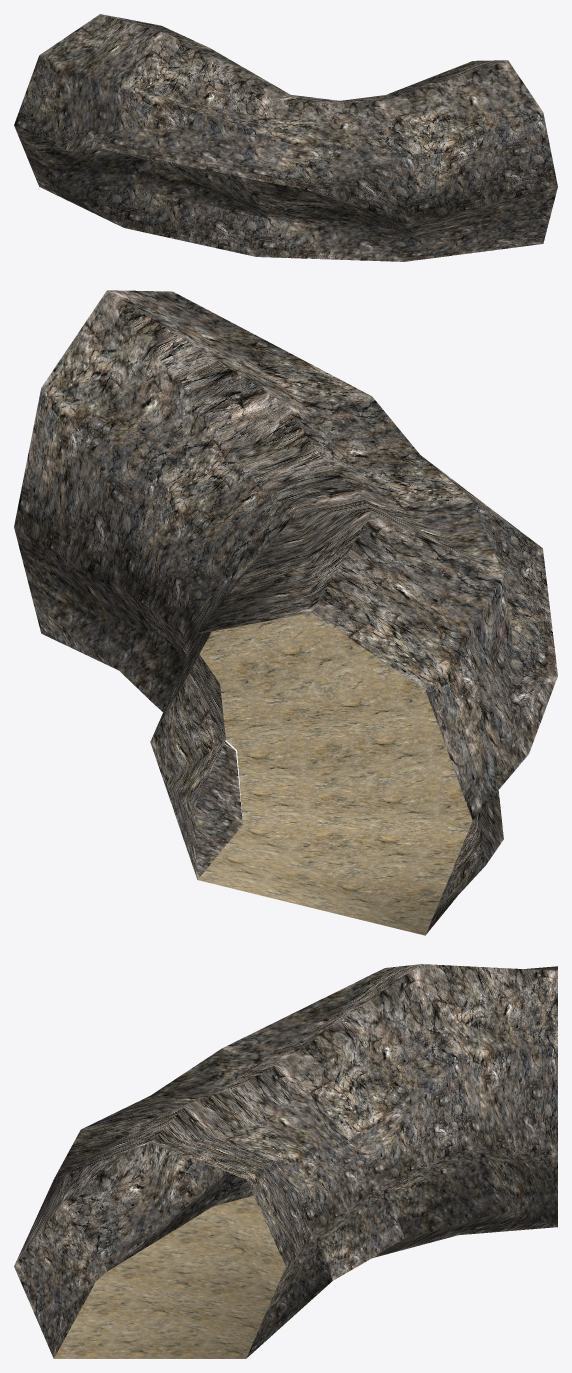
File: pir_m_are_cav_curveWideLeft.fbx
3 renders of one model, top to bottom at view 1: azimuth 30°, elevation 25°; view 2: azimuth 150°, elevation 25°; view 3: azimuth 270°, elevation 25°, orthographic. The views are drawn at different scales.
Parts seen in each view (by area): view 1: standardCurveWide_left_wall; view 2: standardCurveWide_left_wall, standardCurveWide_left_floor; view 3: standardCurveWide_left_wall, standardCurveWide_left_floor.
Part boxes in pixels (x1,y1,x2,y2): standardCurveWide_left_wall: (14, 14, 557, 261); standardCurveWide_left_wall: (14, 290, 557, 934); standardCurveWide_left_floor: (198, 612, 472, 935); standardCurveWide_left_wall: (14, 964, 557, 1358); standardCurveWide_left_floor: (54, 1195, 285, 1358).
Bounding box in the file's own units: 20000 × 9477 × 20000.
Materials: 2 (2 with a texture image).
